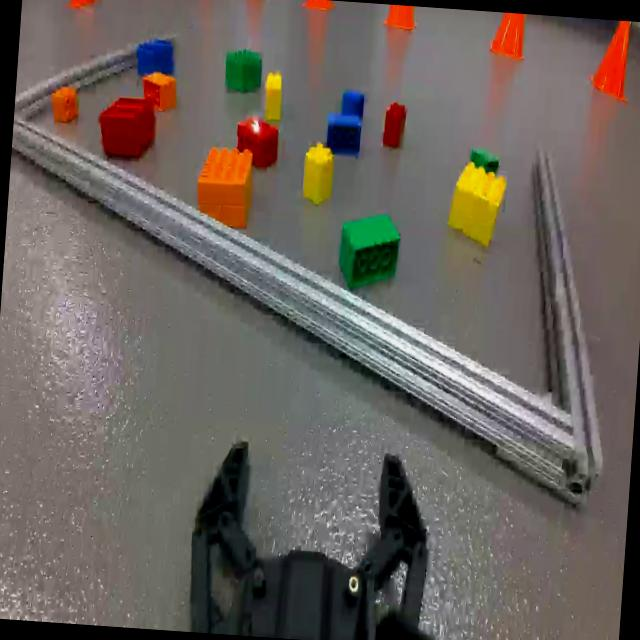block: (447, 167, 505, 240), (300, 148, 338, 202), (261, 69, 284, 124)
blue: (136, 41, 176, 76), (326, 114, 362, 152), (342, 88, 365, 119)
cone: (592, 20, 634, 96), (490, 12, 527, 74), (386, 4, 420, 36), (302, 0, 332, 15), (63, 0, 104, 9)
green: (333, 218, 401, 280), (217, 51, 263, 94), (473, 146, 498, 172)
metal barrier: (11, 42, 607, 523)
orange: (196, 144, 254, 227), (140, 71, 180, 107), (50, 90, 86, 122)
red goal: (97, 100, 157, 156), (236, 111, 280, 164), (381, 99, 406, 154)
